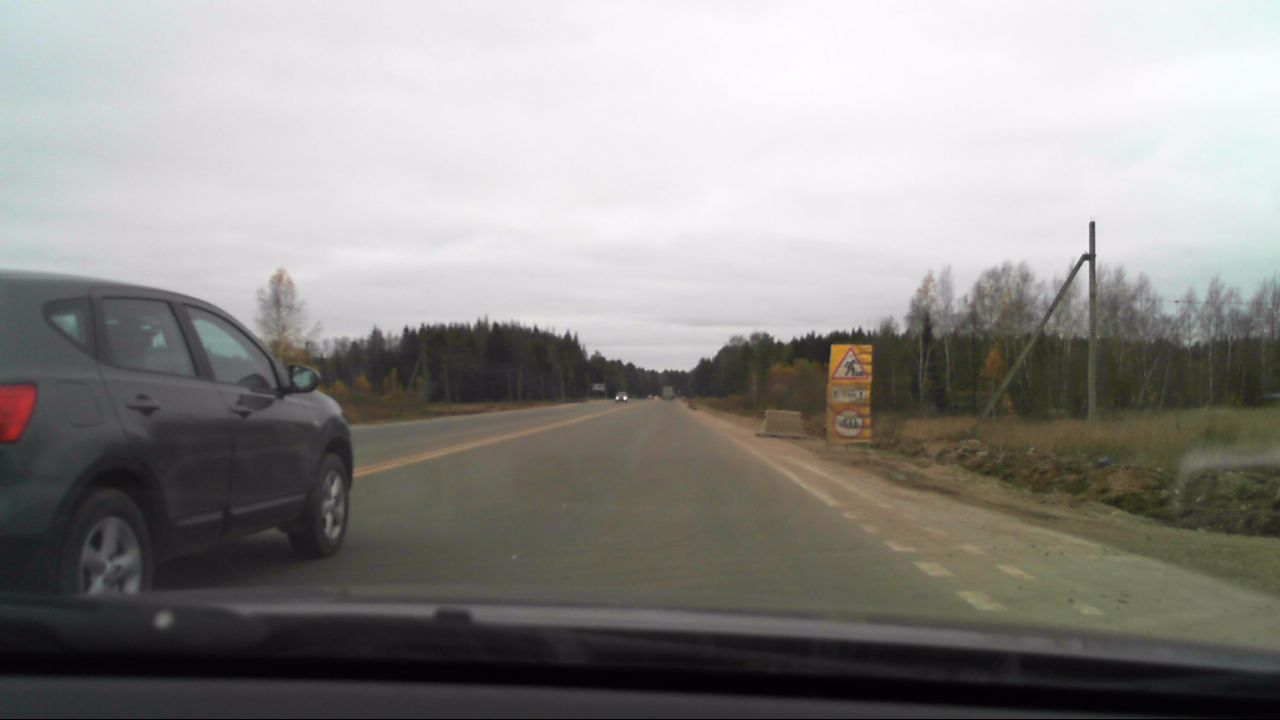speed_warning_40: (831, 407, 863, 437)
